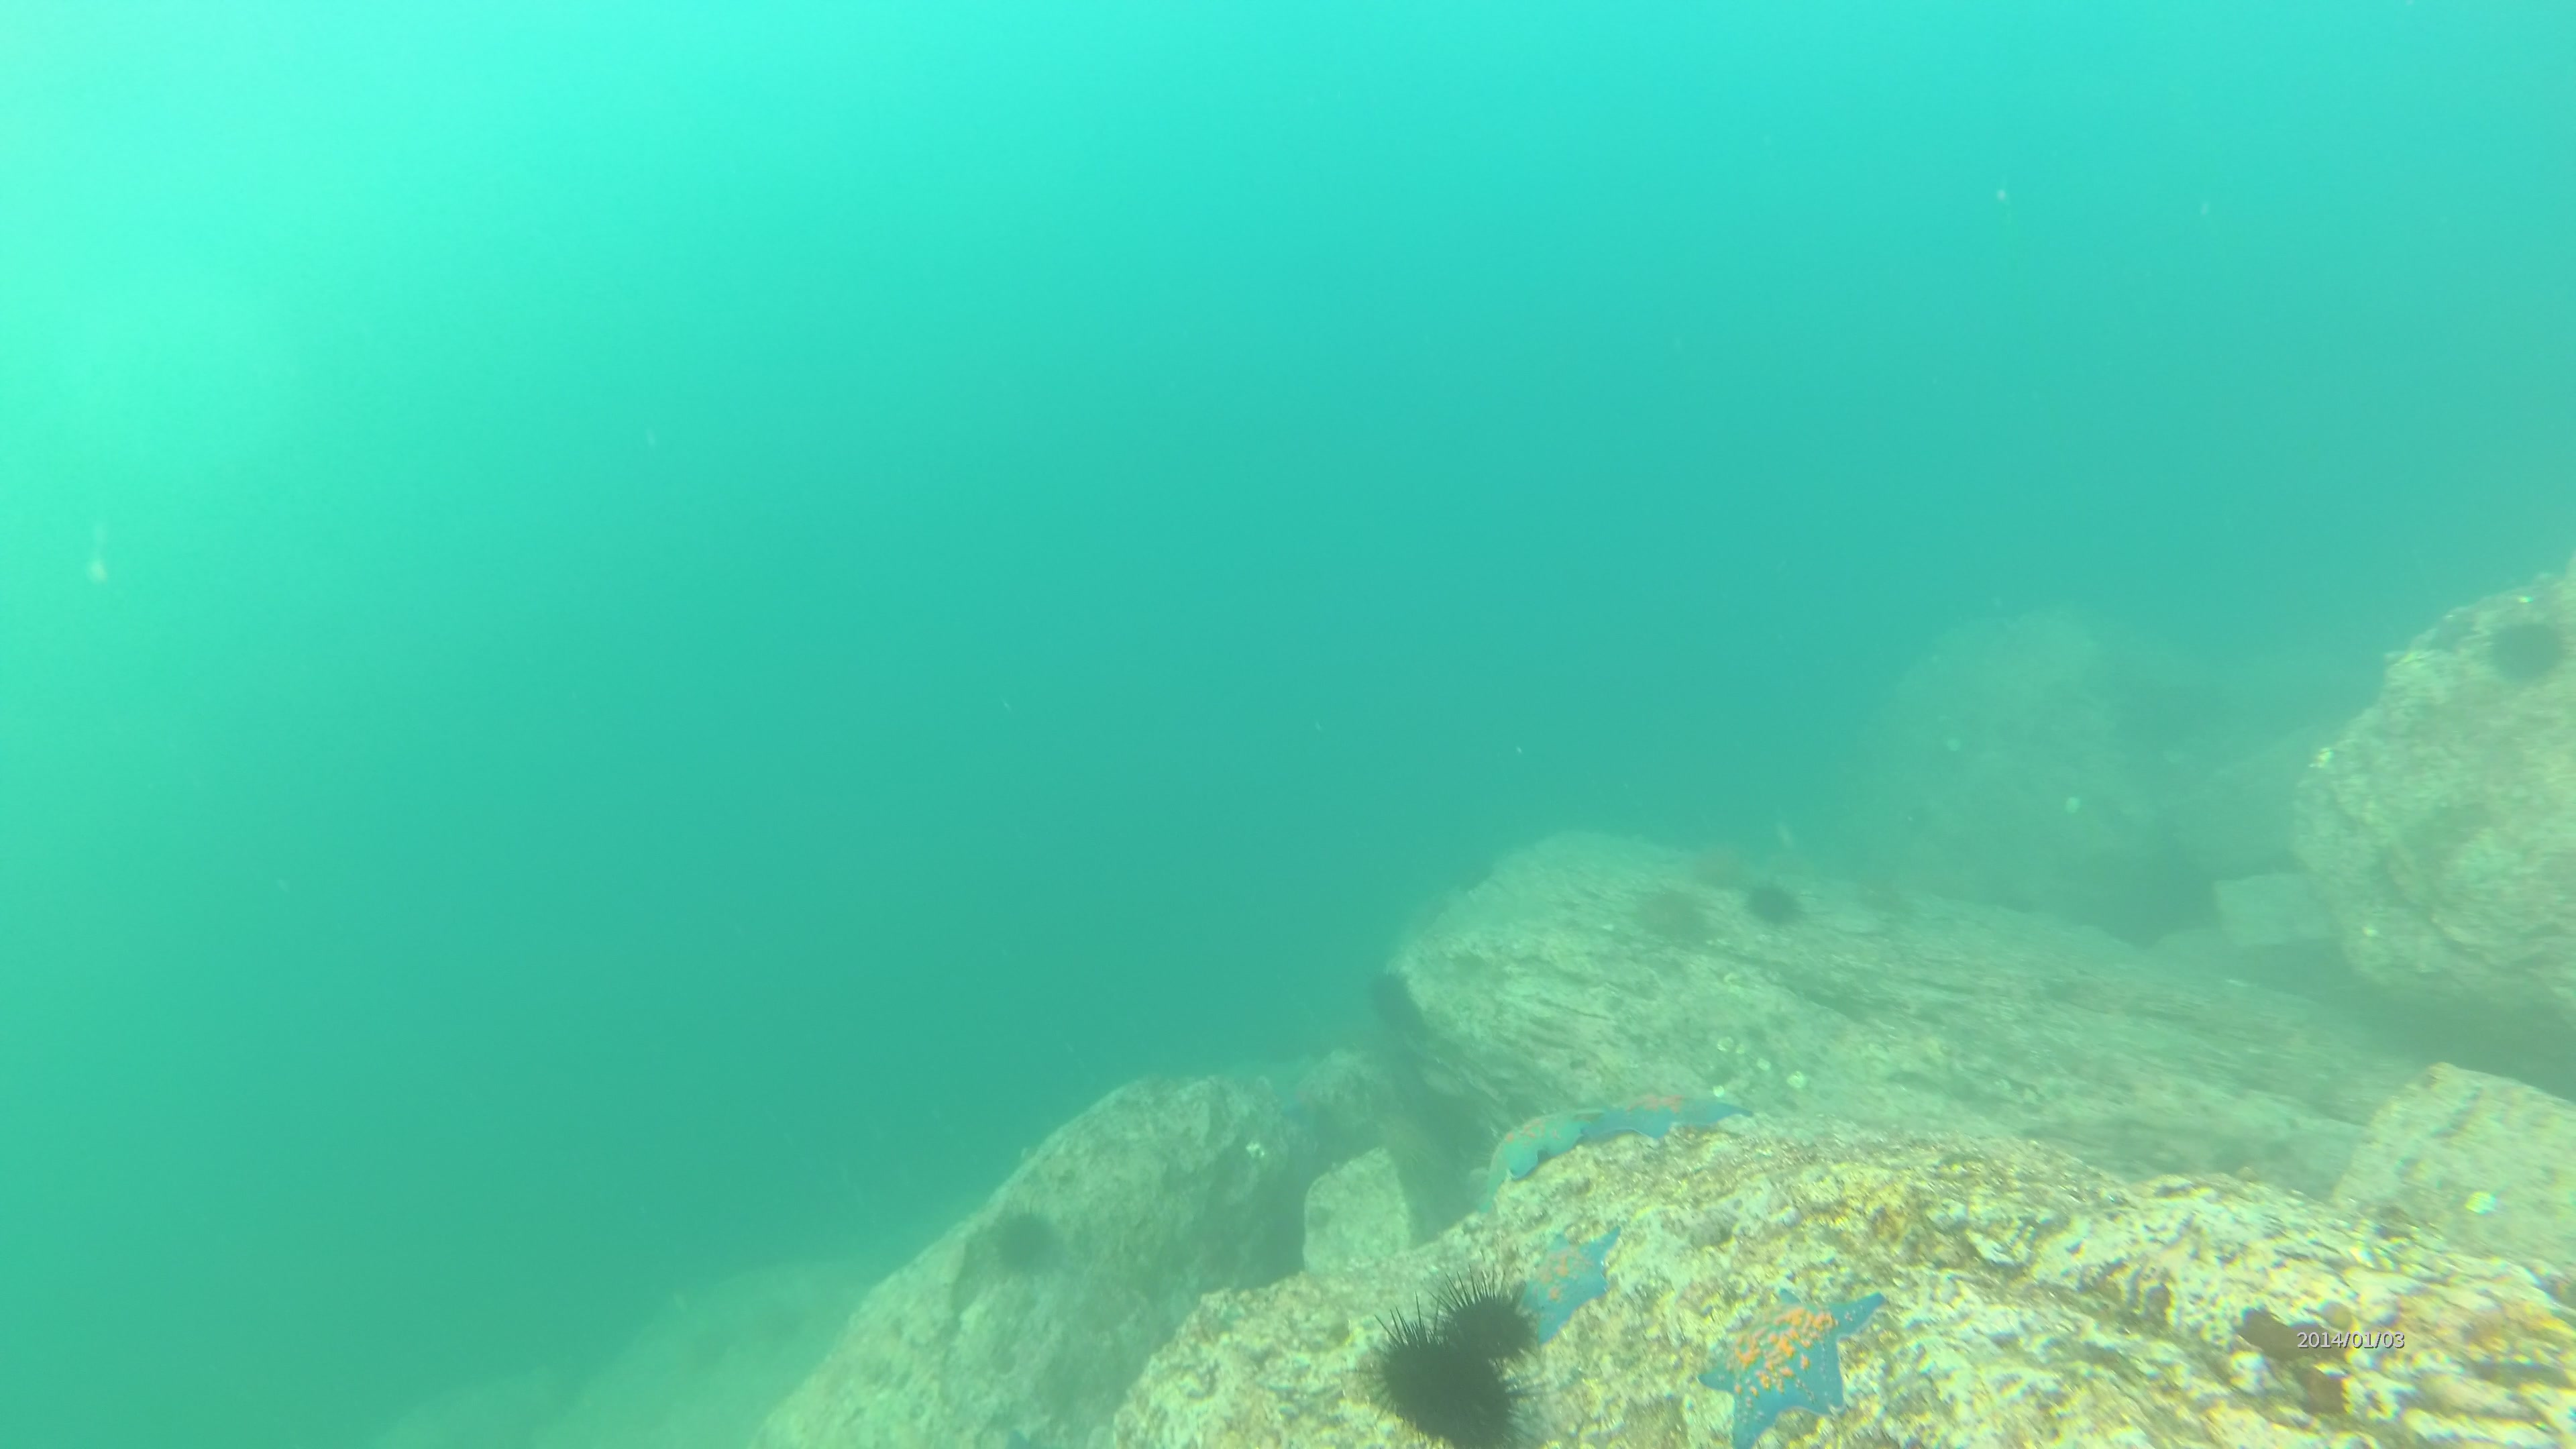echinus: (1368, 1300, 1523, 1449), (1426, 1274, 1539, 1361), (1629, 878, 1711, 966), (2484, 617, 2565, 690), (989, 1208, 1062, 1284), (1748, 878, 1810, 939), (1444, 837, 1500, 897)
starfish: (1688, 1277, 1888, 1449), (1470, 1085, 1596, 1200), (1504, 1230, 1626, 1341), (1596, 1083, 1762, 1150)
